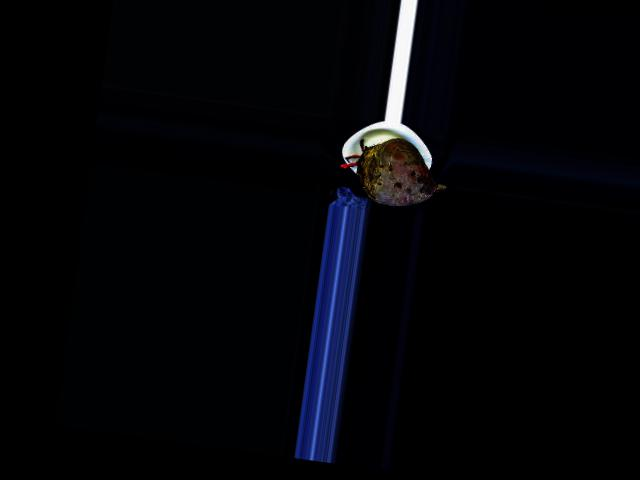beet: (336, 131, 451, 211)
